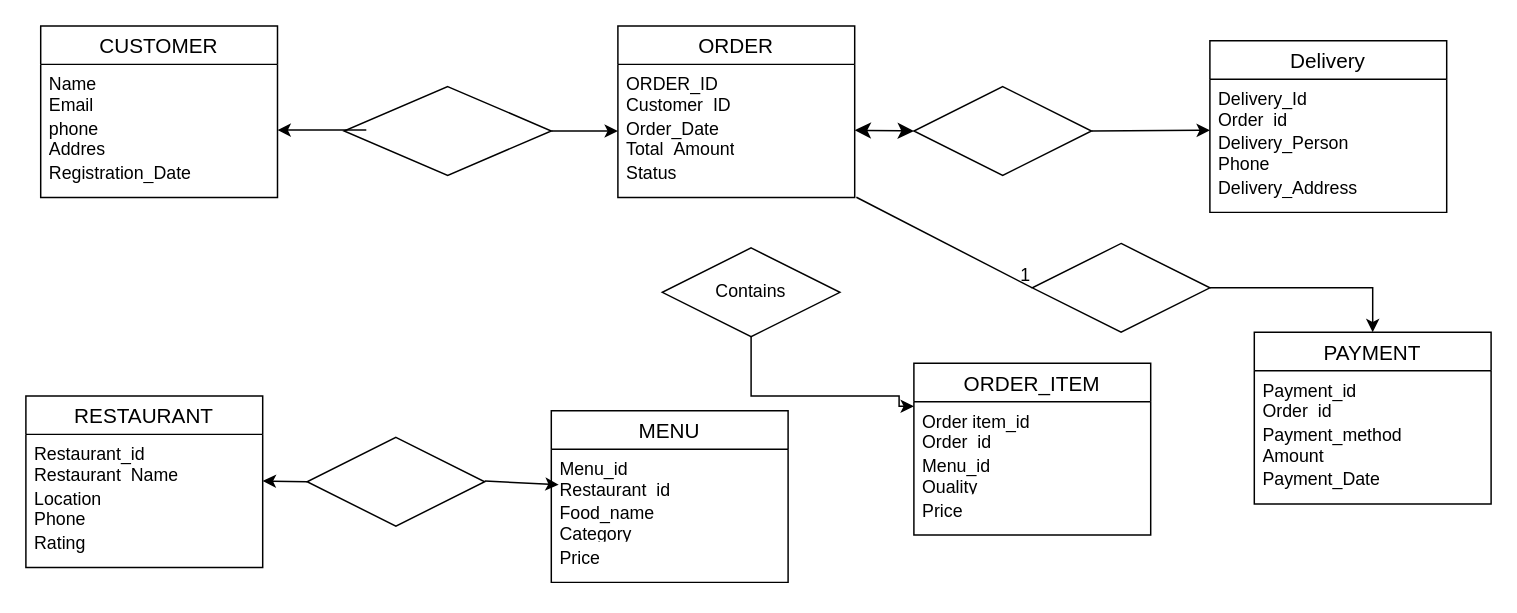
This 1517x613 diagram has some shape labels left out. The box of each missing label's shape, as (x1, y1, x2, y2) in pixels:
Delivery By: (912, 85, 1092, 175)
Has: (306, 436, 485, 526)
Paid by: (1031, 242, 1210, 332)
Places: (343, 85, 551, 175)
